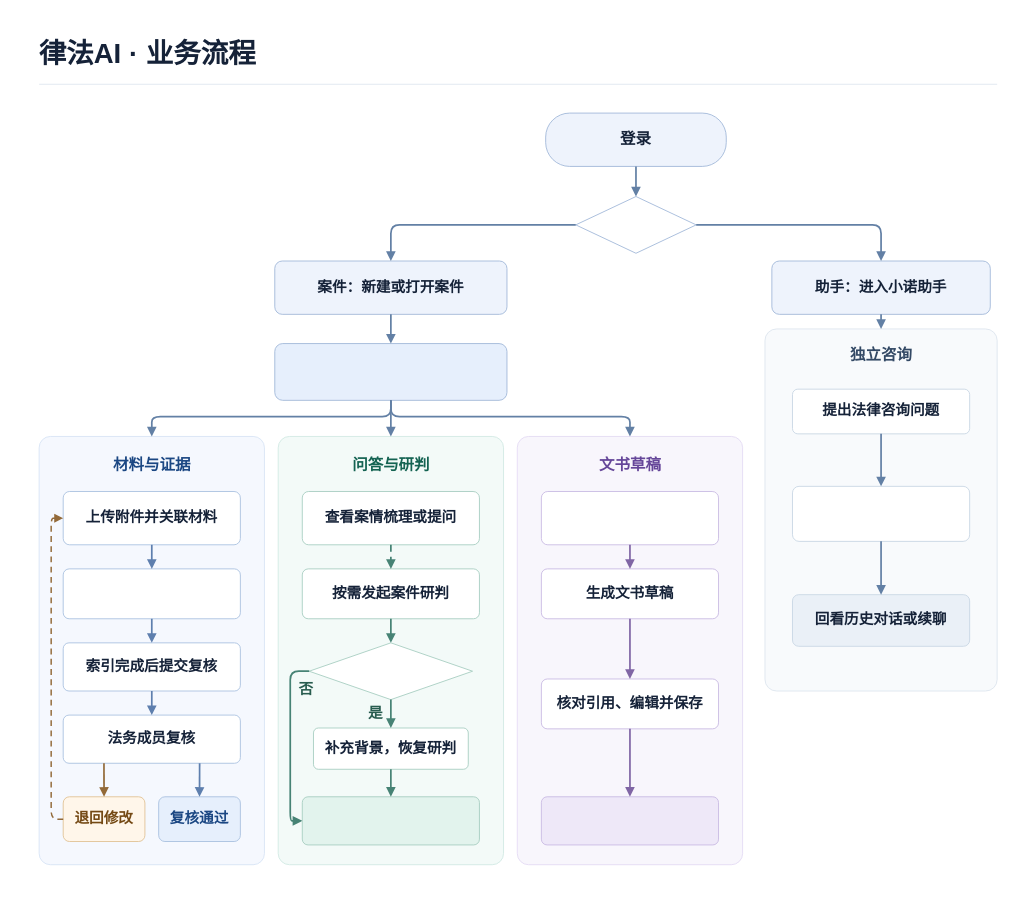
Image size: 1035x903. Some labels were removed from this diagram. The shapes that lost their labels are listed below. From the top down, each one's centre as x and y in pixels, then its label:
At (635,224): "选择入口".
At (390,371): "案件详情".
At (630,518): "使用本案已识别的材料".
At (881,513): "查看小诺的流式回复".
At (151,593): "按需校对 OCR 文本".
At (390,671): "缺少关键背景？".
At (390,820): "查看带引用的研判草稿".
At (630,820): "导出所选版本 DOCX".
